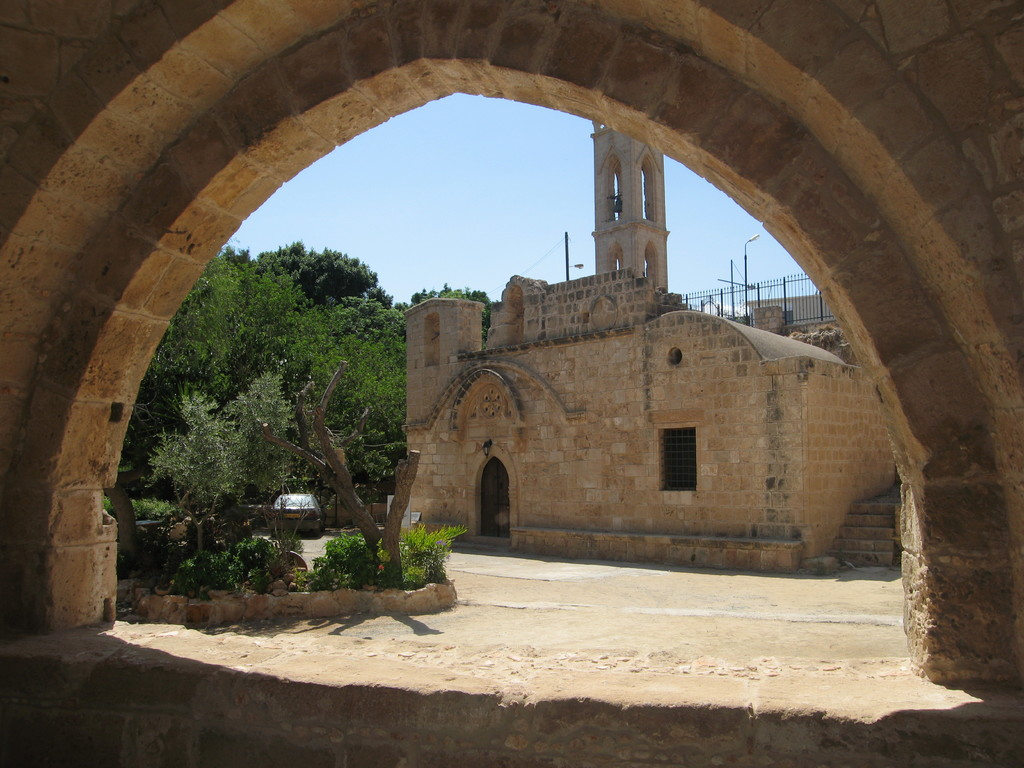Tree: (116, 236, 495, 592)
